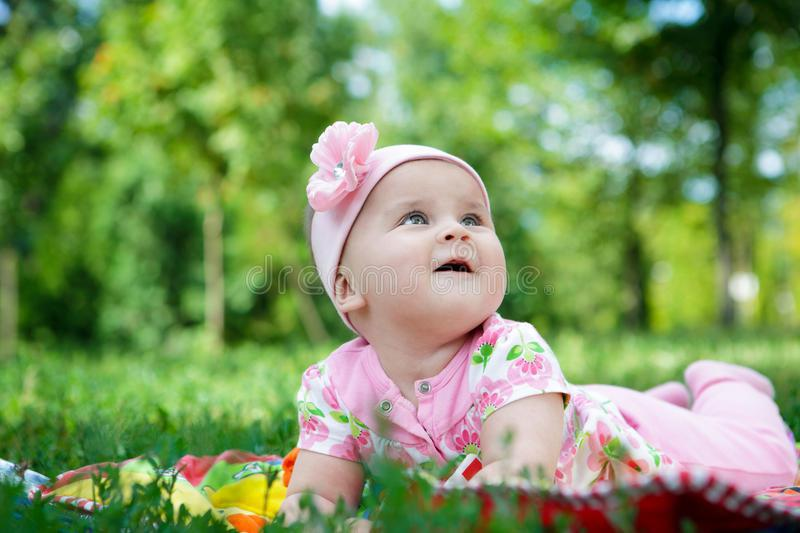child: (255, 111, 800, 530)
